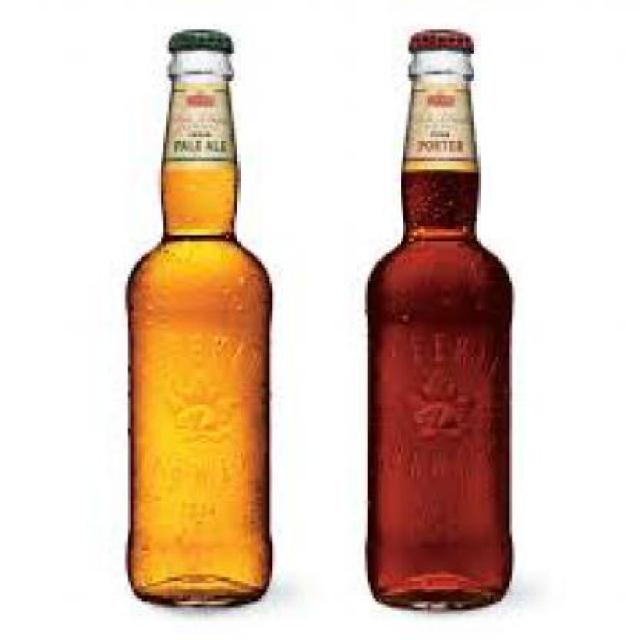GLASS: (365, 45, 506, 608), (128, 48, 268, 604)
METAL: (166, 27, 232, 50), (406, 27, 468, 47)
